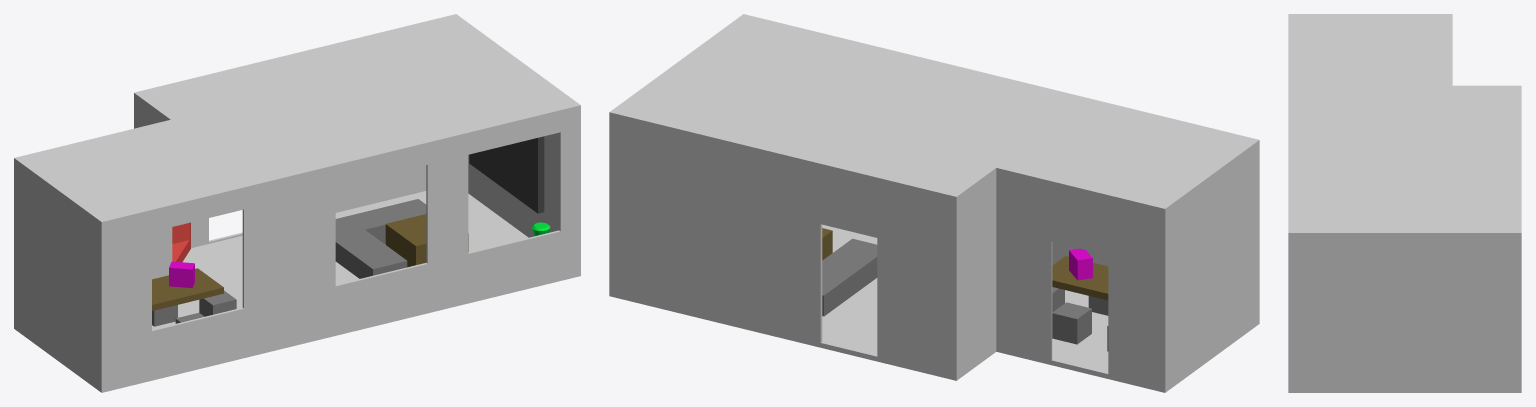
Rendered from MediumRoom.fbx.
3 views of the same model, side by side, from view 1: azimuth 30°, elevation 25°; view 2: azimuth 150°, elevation 25°; view 3: azimuth 270°, elevation 25° (orthographic). The views are drawn at different scales.
Parts seen in each view (by area): view 1: Room.001, Cube.010, Cube.007, Cube.009, Table.001, Chair.002, Kamin, Cube.008; view 2: Room.001, Cube.010, Table.001, Chair.001, Cube.008; view 3: Room.001.
Part boxes in pixels (x1,y1,x2,y2): Room.001: (14, 14, 580, 392); Cube.010: (335, 199, 426, 278); Cube.007: (469, 136, 544, 213); Cube.009: (385, 214, 468, 267); Table.001: (152, 268, 223, 310); Chair.002: (199, 290, 236, 316); Kamin: (172, 222, 190, 262); Cube.008: (169, 261, 194, 288); Room.001: (609, 14, 1259, 392); Cube.010: (822, 238, 877, 316); Table.001: (1052, 256, 1108, 300); Chair.001: (1052, 302, 1091, 344); Cube.008: (1069, 248, 1092, 280); Room.001: (1288, 14, 1521, 392).
Size of the model in its own units: 1820 by 711 by 820.
